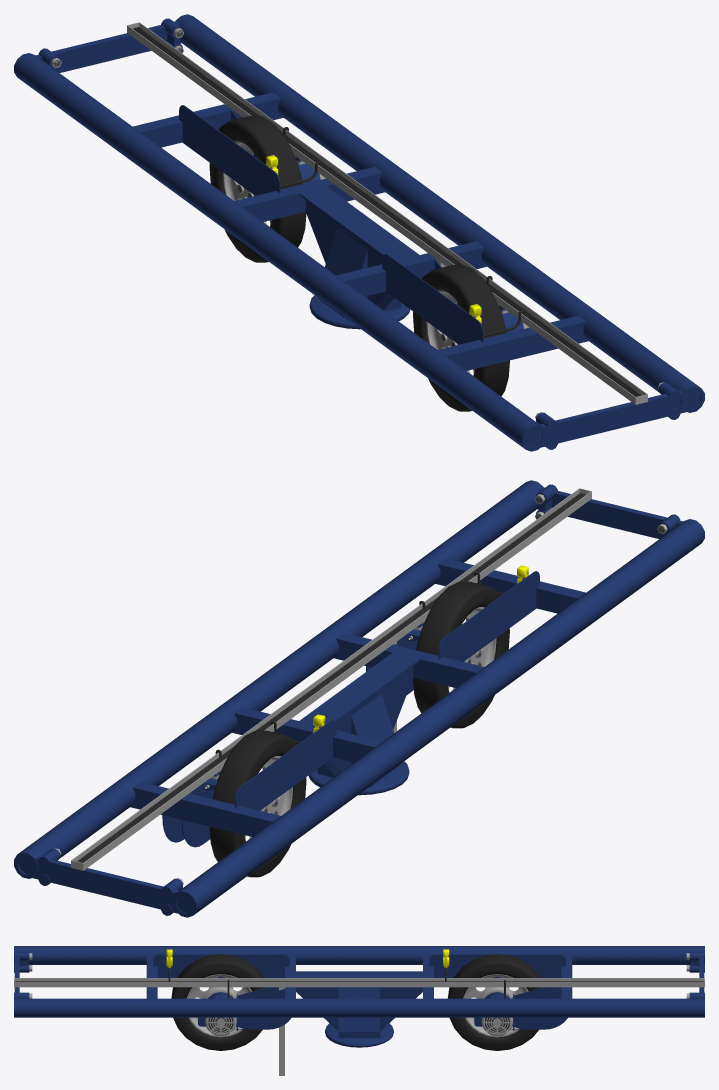
The model's file is Transport.dae.
3 renders of one model, top to bottom at view 1: azimuth 30°, elevation 25°; view 2: azimuth 150°, elevation 25°; view 3: azimuth 270°, elevation 25°, orthographic. The views are drawn at different scales.
Visible parts, largest first — view 1: Track (×8), Mid_Detail (×4), wheel0, wheel1, High_Detail (×2); view 2: Track (×8), Mid_Detail (×4), High_Detail (×3), wheel1, wheel0; view 3: Track (×8), Mid_Detail (×4), wheel0 (×3), wheel1 (×3), High_Detail (×5).
Boxes of the visible parts, x1,y1,x2,y2 form: Track (×8): [14, 14, 704, 451]; Mid_Detail (×4): [127, 22, 647, 404]; wheel0: [413, 264, 509, 411]; wheel1: [209, 115, 306, 262]; High_Detail (×2): [134, 27, 641, 396]; Track (×8): [14, 480, 704, 917]; Mid_Detail (×4): [71, 488, 591, 870]; High_Detail (×3): [77, 493, 584, 862]; wheel1: [209, 730, 306, 877]; wheel0: [413, 581, 509, 728]; Track (×8): [14, 946, 704, 1047]; Mid_Detail (×4): [14, 954, 704, 1075]; wheel0 (×3): [171, 954, 266, 1050]; wheel1 (×3): [447, 954, 542, 1050]; High_Detail (×5): [14, 981, 704, 1034].
Size of the model in its own units: 40.76 by 197 by 33.67.
9 materials, 3 textured.
